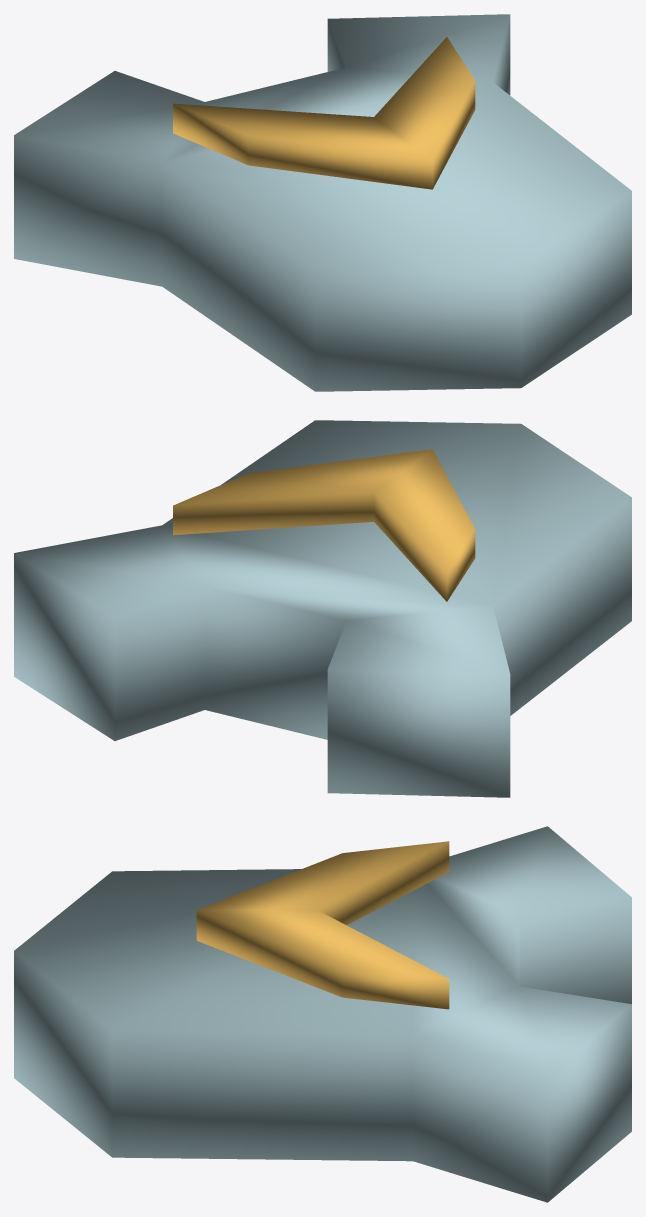
Rendered from armor.glb.
3 renders of one model, top to bottom at view 1: azimuth 30°, elevation 25°; view 2: azimuth 150°, elevation 25°; view 3: azimuth 270°, elevation 25°, orthographic. The views are drawn at different scales.
Parts seen in each view (by area): view 1: Breastplate, Chest chevron; view 2: Breastplate, Chest chevron; view 3: Breastplate, Chest chevron.
Part boxes in pixels (x1,y1,x2,y2): Breastplate: (14, 14, 631, 391); Chest chevron: (173, 37, 475, 189); Breastplate: (14, 420, 631, 797); Chest chevron: (173, 449, 475, 601); Breastplate: (14, 826, 631, 1202); Chest chevron: (196, 841, 449, 1009).
Size of the model in its own units: 2.1 by 0.66 by 2.2.
